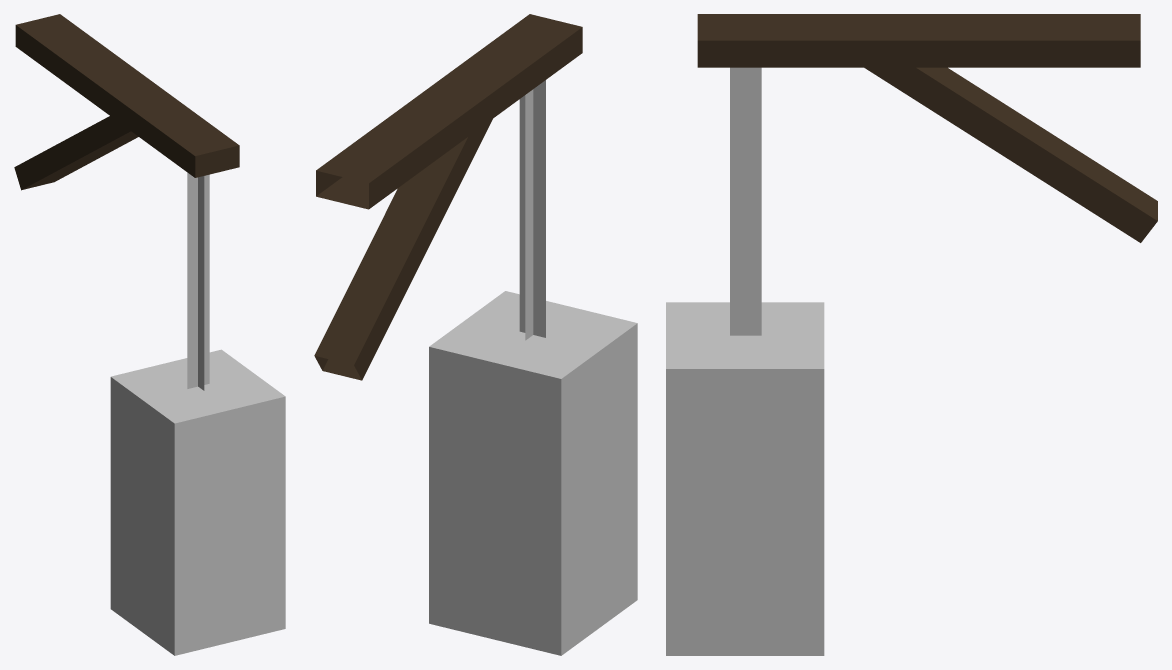
The model's file is OC_LOB_CAGE.OBJ.
3 renders of one model, left to right at view 1: azimuth 30°, elevation 25°; view 2: azimuth 150°, elevation 25°; view 3: azimuth 270°, elevation 25°, orthographic. The views are drawn at different scales.
Parts seen in each view (by area): view 1: OC_LOB_CAGE; view 2: OC_LOB_CAGE; view 3: OC_LOB_CAGE.
Boxes of the visible parts, bbox=[...] form: OC_LOB_CAGE: bbox=[14, 14, 285, 655]; OC_LOB_CAGE: bbox=[314, 14, 637, 655]; OC_LOB_CAGE: bbox=[666, 14, 1157, 655].
Bounding box in the file's own units: 1 × 4.15 × 3.11.
